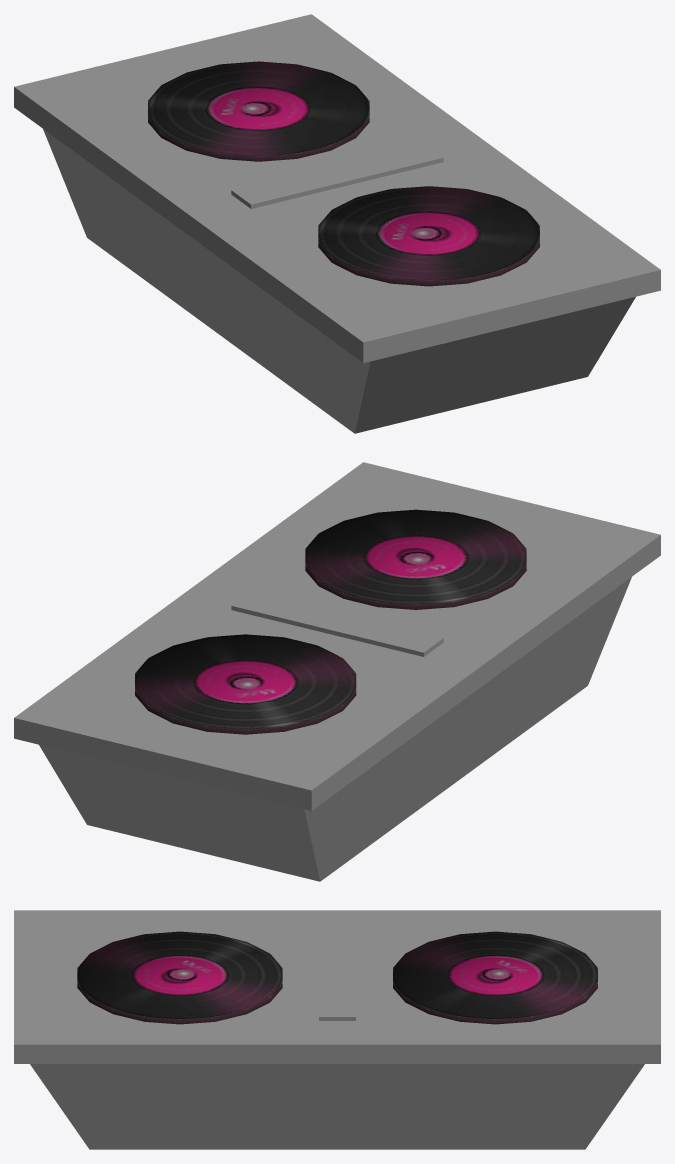
File: DJTable_01.FBX
3 renders of one model, top to bottom at view 1: azimuth 30°, elevation 25°; view 2: azimuth 150°, elevation 25°; view 3: azimuth 270°, elevation 25°, orthographic. The views are drawn at different scales.
Parts seen in each view (by area): view 1: DJTable_01; view 2: DJTable_01; view 3: DJTable_01.
Boxes of the visible parts, <box> form: DJTable_01: <box>14,14,660,433</box>; DJTable_01: <box>14,462,660,881</box>; DJTable_01: <box>14,910,660,1149</box>.
Size of the model in its own units: 72.91 by 31.45 by 148.
